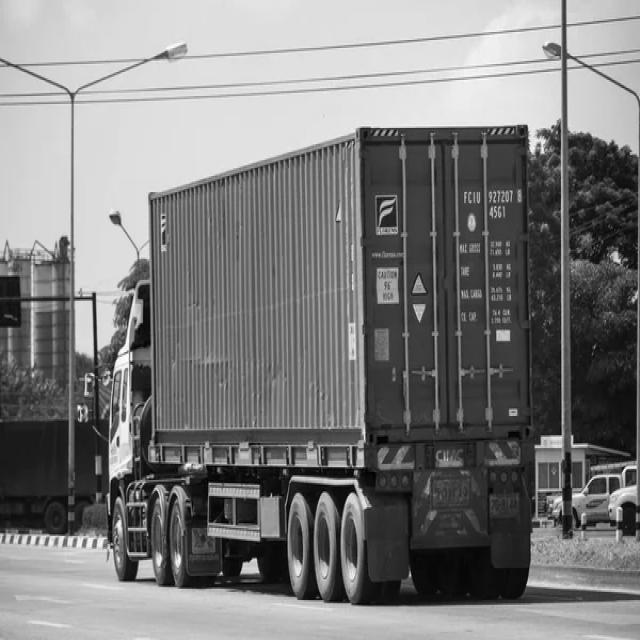Pole: (0, 41, 187, 534), (545, 0, 574, 540)
Truck: (108, 126, 535, 604)
